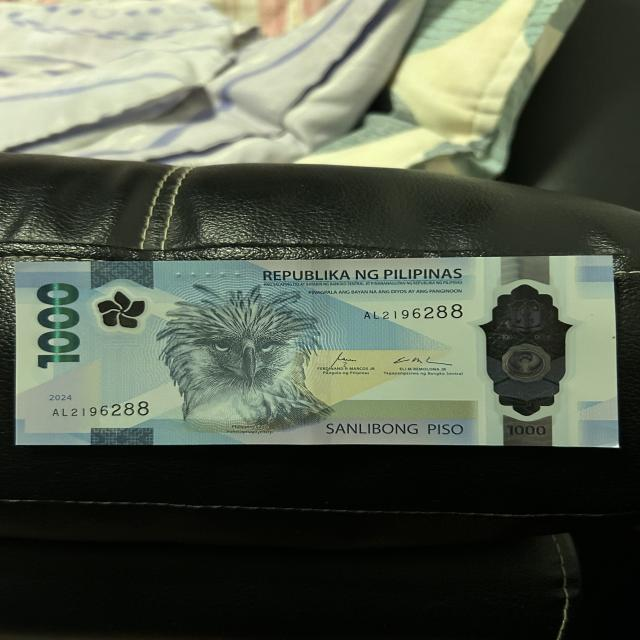clear_window: (476, 284, 576, 418)
eagle: (159, 284, 327, 432)
sampaguita: (93, 288, 144, 325)
